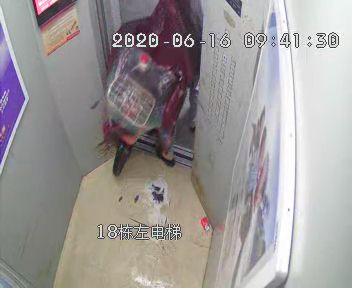Electric-bicycle: (104, 38, 181, 175)
